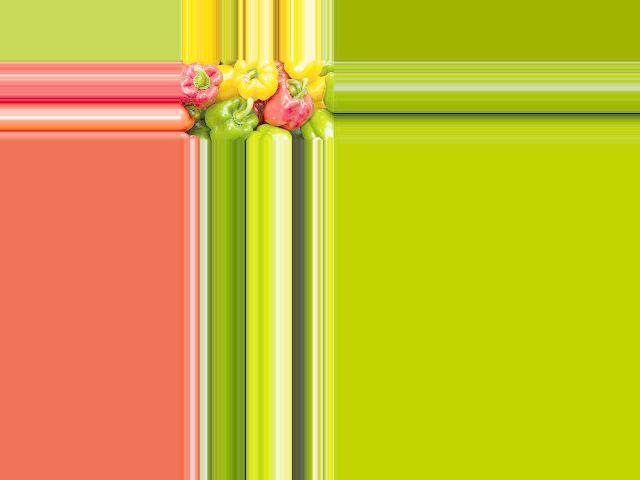bell_pepper: (181, 61, 228, 108)
